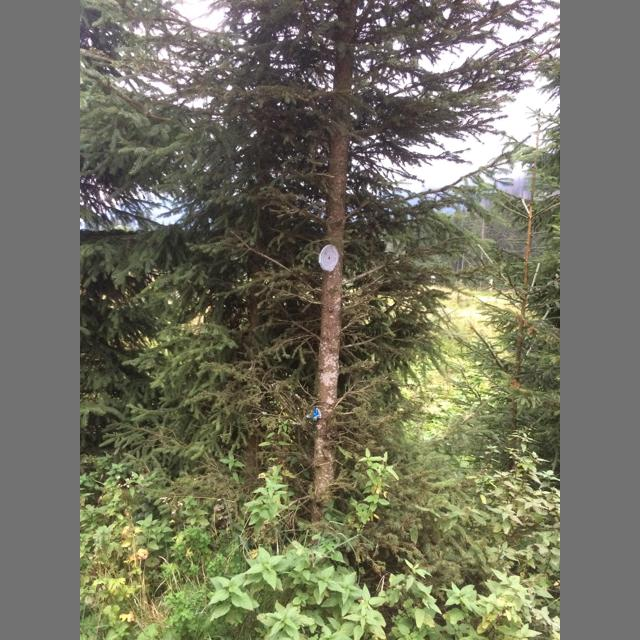litter: (318, 244, 339, 272), (305, 406, 322, 421)
